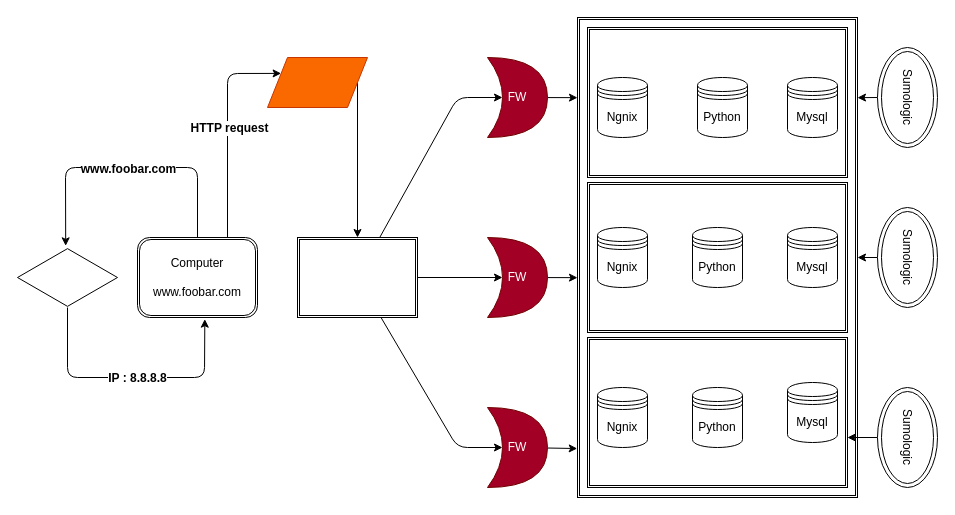
Some shapes in this 955 by 515 pixel diagram are drawn without their labels. The centre of each missing label's shape, as x and y in pixels:
"DNS" goes at point 67,277.
"load balancer HAProxy" goes at point 357,277.
"SSL" goes at point 317,82.
